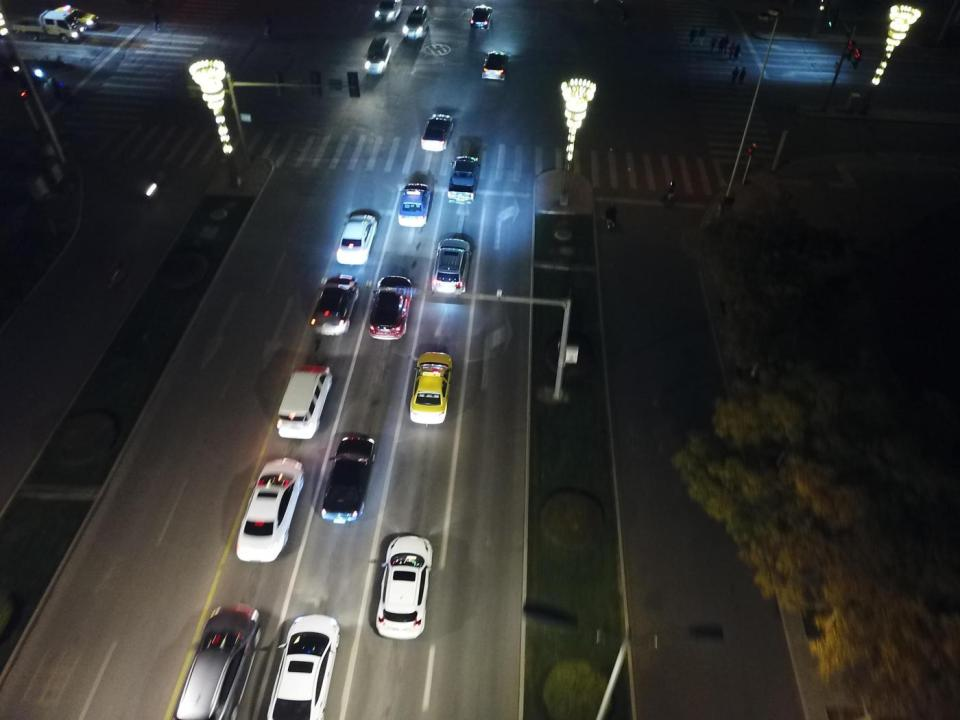car: (169, 605, 260, 720), (267, 615, 338, 720), (238, 457, 302, 564), (374, 534, 434, 641), (320, 436, 374, 522), (409, 351, 452, 423), (311, 276, 358, 337), (433, 236, 474, 294), (370, 278, 410, 337), (336, 210, 376, 266), (447, 154, 478, 204), (398, 182, 430, 229), (420, 111, 453, 151), (51, 5, 98, 30), (403, 5, 429, 38), (483, 51, 508, 80), (373, 0, 403, 23), (471, 5, 492, 27)
truck: (10, 9, 83, 42)
van: (277, 365, 332, 439), (366, 38, 390, 74)
